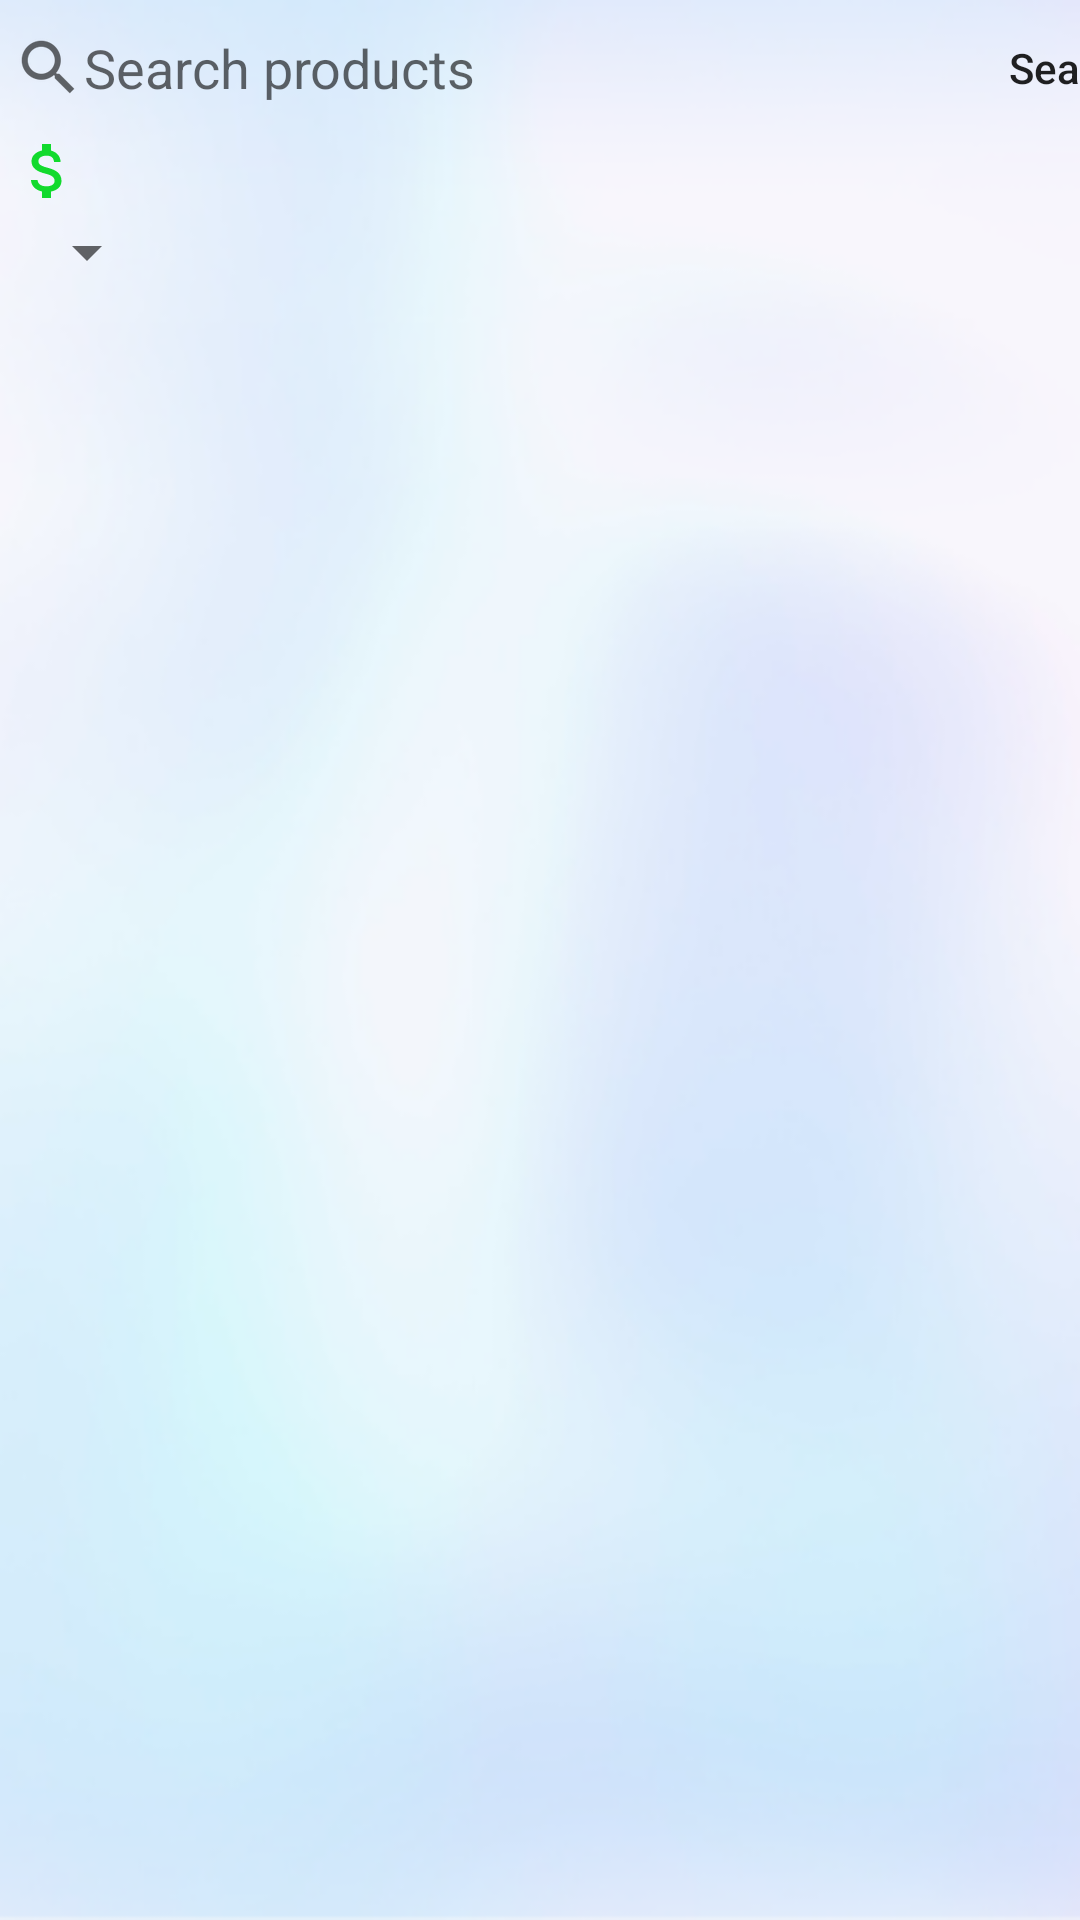

Icons on this 1080×1920 Android screen, each with its box as (x1, y1, x2, y2):
attach money: (31, 144, 62, 198)
